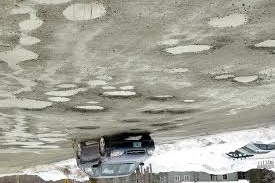pothole: (61, 2, 114, 23), (207, 10, 249, 33), (1, 48, 43, 67), (161, 41, 219, 54), (3, 117, 34, 136), (1, 100, 53, 111), (15, 74, 38, 95), (19, 16, 45, 33), (158, 63, 191, 76), (251, 34, 274, 51), (104, 88, 138, 99), (82, 77, 110, 88), (210, 68, 233, 81), (234, 73, 260, 84), (18, 34, 41, 45), (10, 5, 38, 14), (44, 89, 80, 96), (1, 139, 37, 146), (73, 104, 107, 111), (177, 96, 197, 105), (166, 107, 186, 116), (53, 81, 78, 88), (41, 135, 66, 142), (78, 125, 101, 132), (37, 143, 60, 150), (49, 95, 71, 102), (152, 93, 172, 100), (144, 108, 164, 115), (149, 120, 169, 127), (100, 84, 117, 89), (118, 84, 133, 89), (125, 117, 139, 122)
